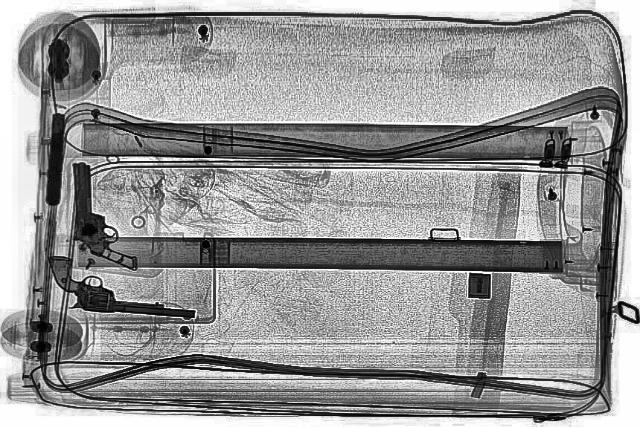Gun: (40, 256, 200, 316), (70, 161, 136, 271), (41, 113, 67, 205)
